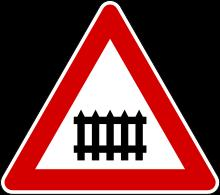Barrier Ahead: (13, 11, 210, 183)
